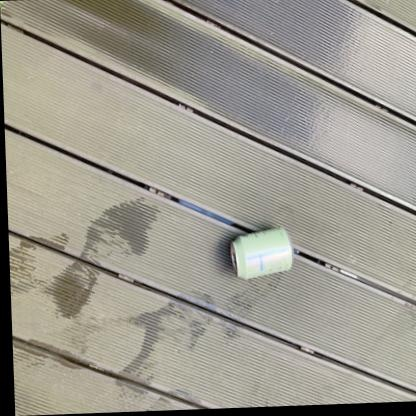trash: (231, 228, 291, 278)
